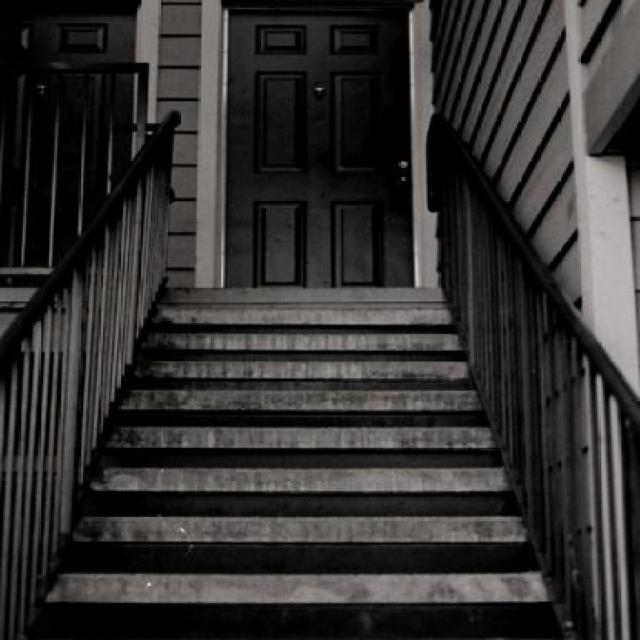stair: (0, 100, 638, 639)
